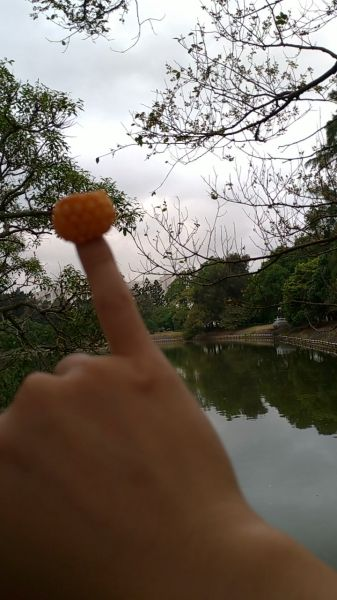eggs: (52, 192, 116, 242)
